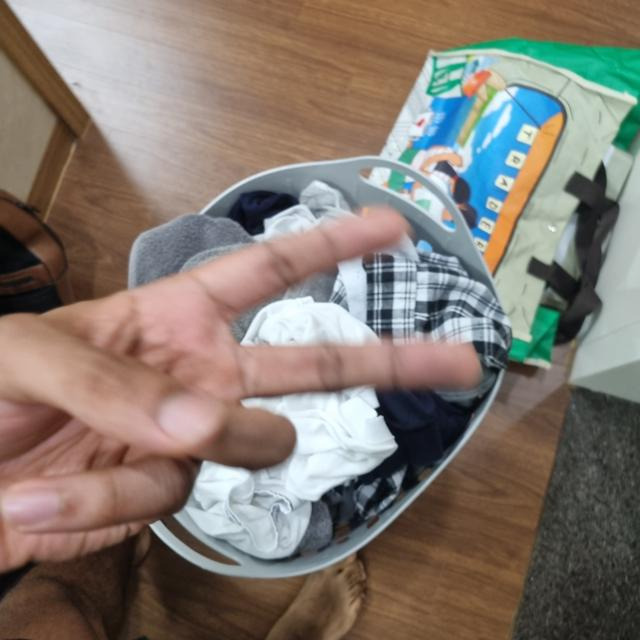Scissors: (0, 207, 477, 576)
